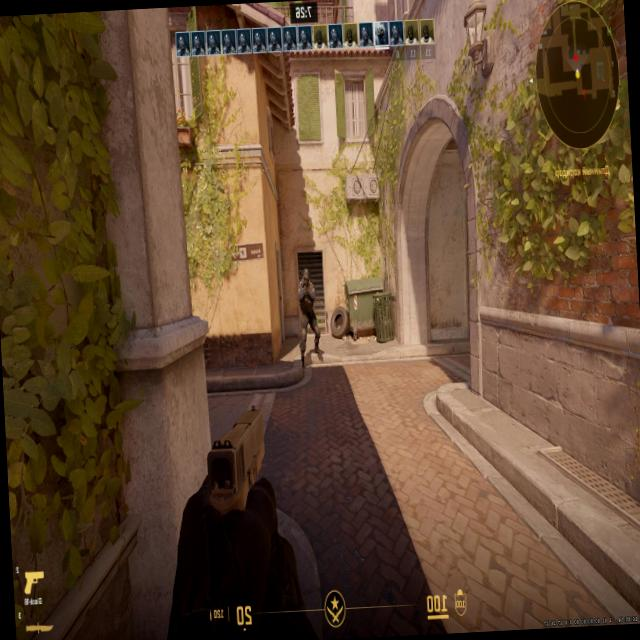CT: (296, 272, 314, 356)
CT_heat: (300, 271, 306, 285)
